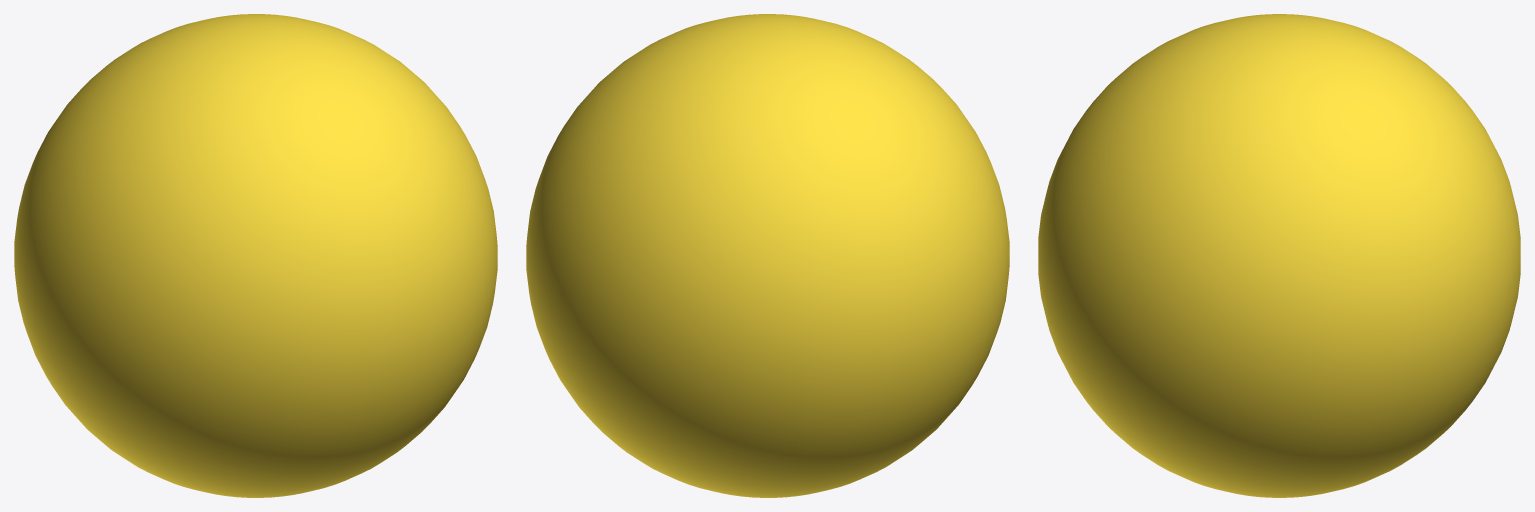
Rendered from TurtlebotBall.fbx.
3 views of the same model, side by side, from view 1: azimuth 30°, elevation 25°; view 2: azimuth 150°, elevation 25°; view 3: azimuth 270°, elevation 25° (orthographic).
Parts seen in each view (by area): view 1: Ball; view 2: Ball; view 3: Ball.
Boxes of the visible parts, left/top/right/bottom form: Ball: left=14, top=14, right=497, bottom=497; Ball: left=526, top=14, right=1009, bottom=497; Ball: left=1038, top=14, right=1520, bottom=497.
Size of the model in its own units: 0.9511 by 0.9525 by 0.9497.
